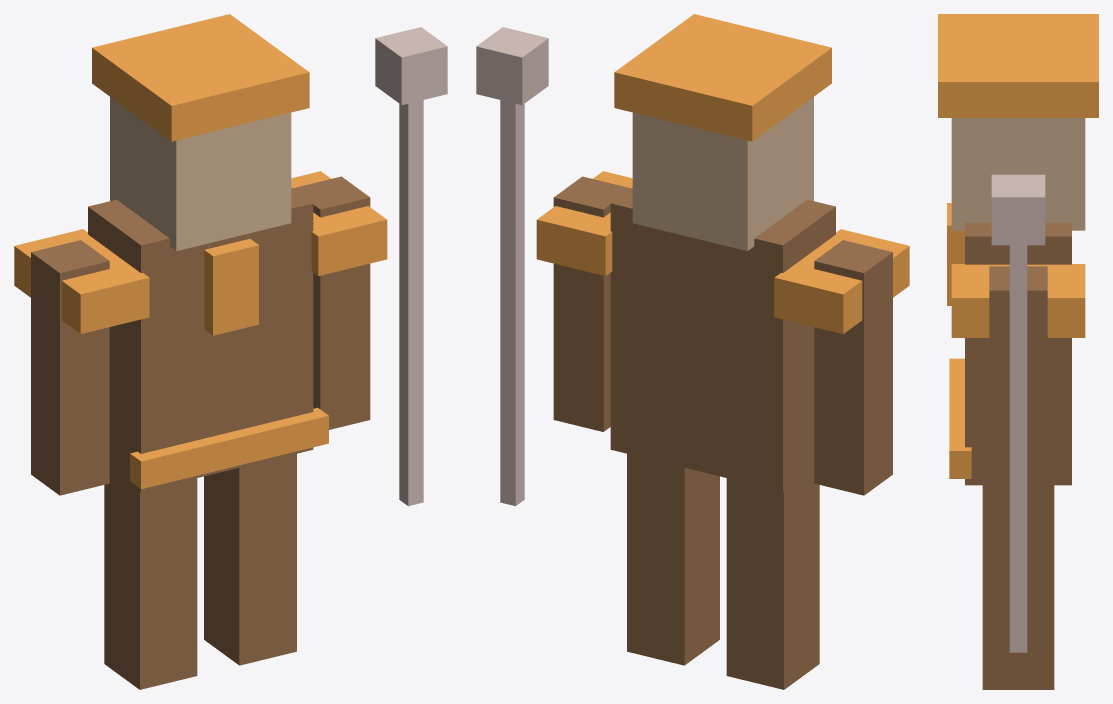
File: 03_keir_latchward_guide_near_quarantine.glb
3 views of the same model, side by side, from view 1: azimuth 30°, elevation 25°; view 2: azimuth 150°, elevation 25°; view 3: azimuth 270°, elevation 25° (orthographic).
Visible parts, largest first — view 1: Keir Latchward, Guide near Quarantine; view 2: Keir Latchward, Guide near Quarantine; view 3: Keir Latchward, Guide near Quarantine.
Boxes of the visible parts, box(x1,y1,x2,y2) form: Keir Latchward, Guide near Quarantine: box(14, 14, 447, 689); Keir Latchward, Guide near Quarantine: box(476, 14, 909, 689); Keir Latchward, Guide near Quarantine: box(938, 14, 1098, 689).
Bounding box in the file's own units: 1.02 × 1.5 × 0.3632.
